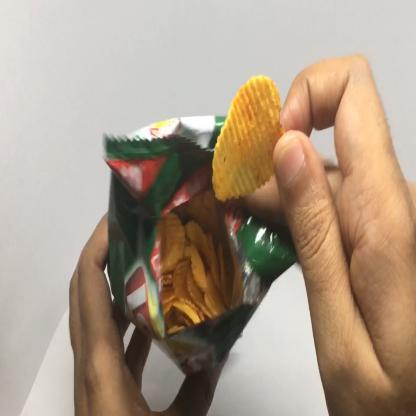chile_limon: (102, 109, 302, 364)
